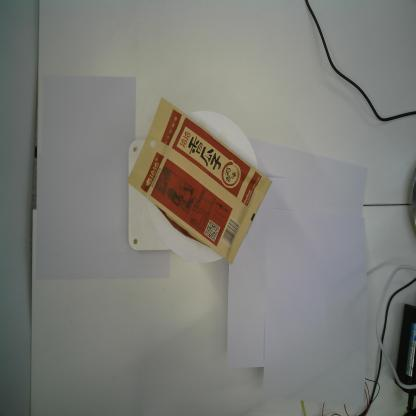Dried Food: (127, 97, 272, 266)
